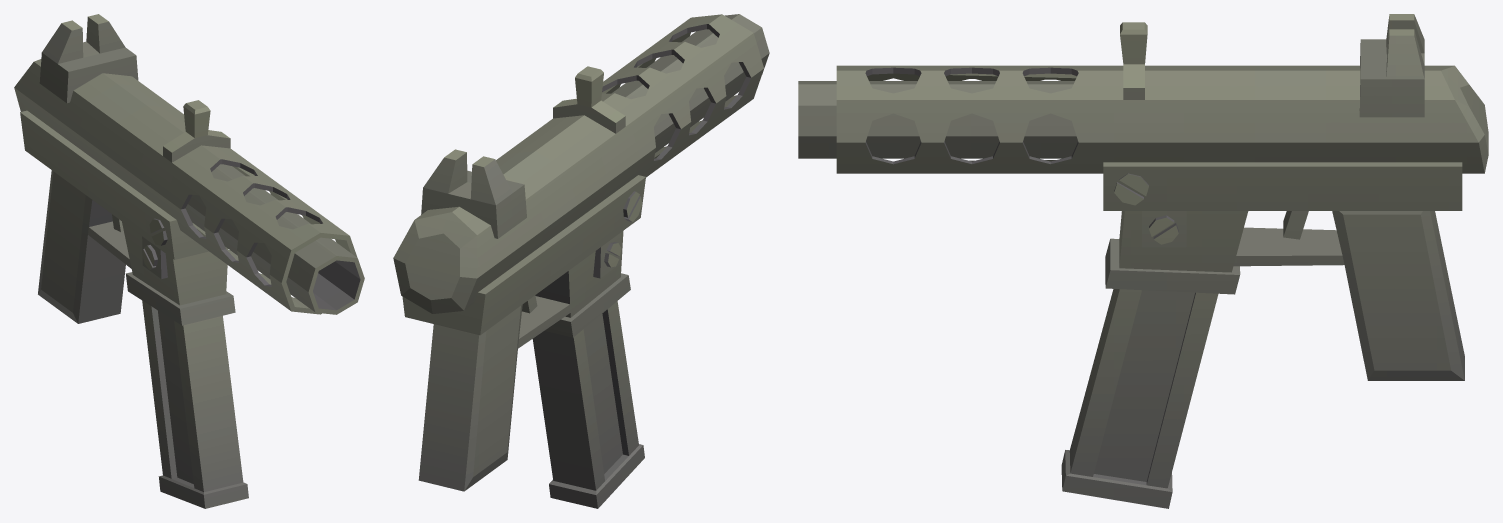
The model's file is fbx-gun-uzi.fbx.
3 renders of one model, left to right at view 1: azimuth 30°, elevation 25°; view 2: azimuth 150°, elevation 25°; view 3: azimuth 270°, elevation 25°, orthographic. The views are drawn at different scales.
Visible parts, largest first — view 1: mesh-gun-smg; view 2: mesh-gun-smg; view 3: mesh-gun-smg.
Part boxes in pixels (bbox=[...]): mesh-gun-smg: bbox=[14, 14, 364, 508]; mesh-gun-smg: bbox=[393, 14, 769, 508]; mesh-gun-smg: bbox=[798, 14, 1488, 508].
Size of the model in its own units: 0.2009 by 0.929 by 1.23.
